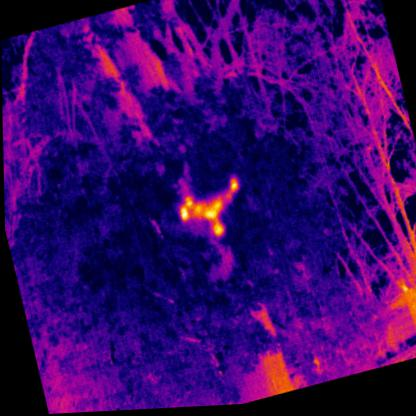drone: (173, 176, 248, 245)
